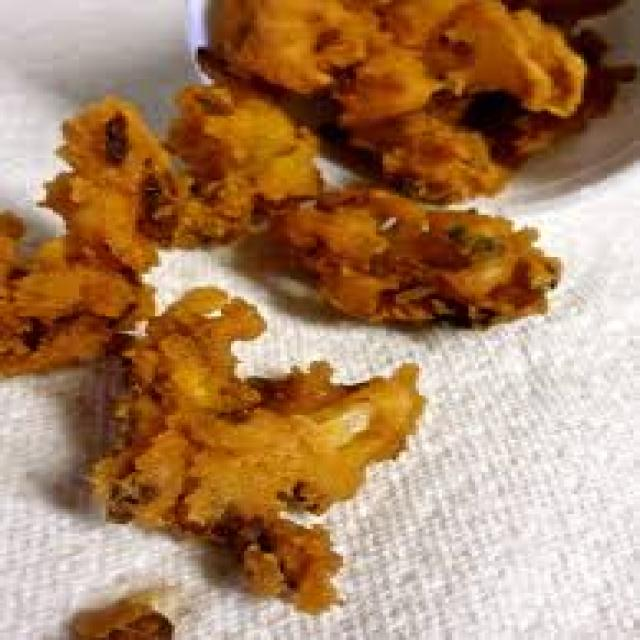BAJI: (0, 1, 637, 375), (81, 283, 435, 609)
